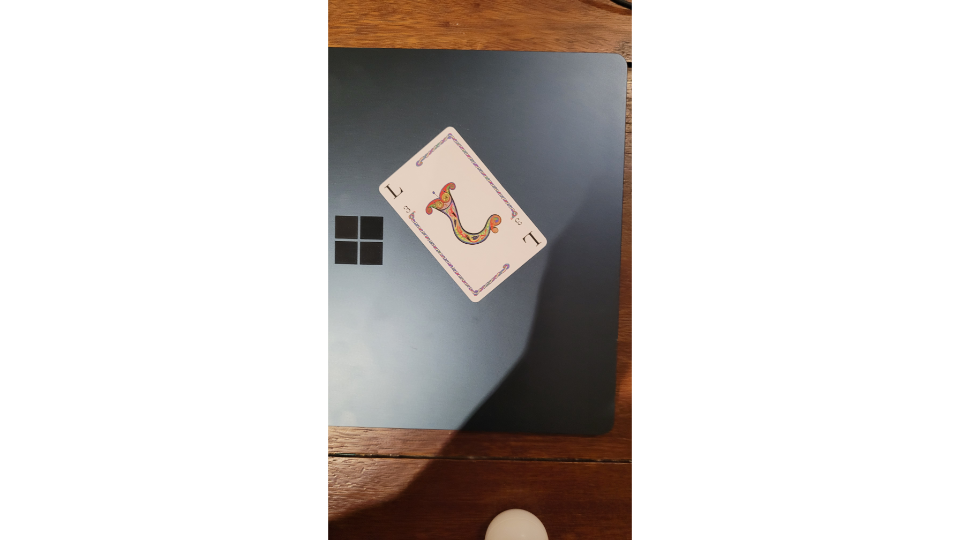L: (376, 123, 551, 305)
